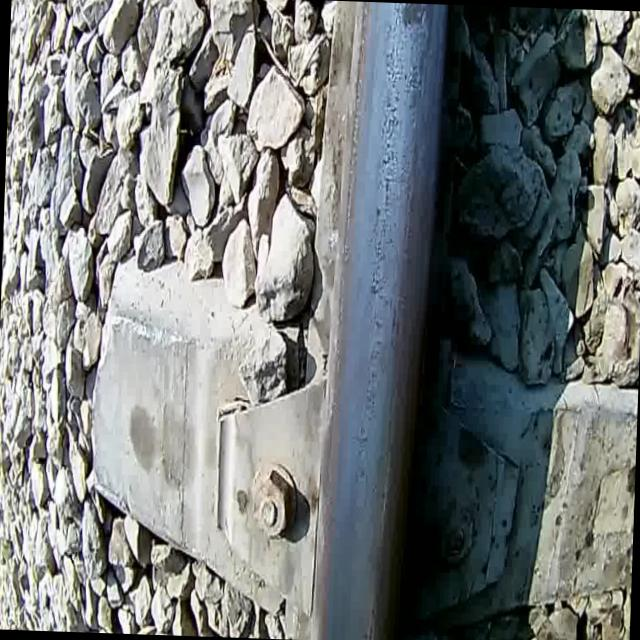Squats: (389, 2, 438, 81)
